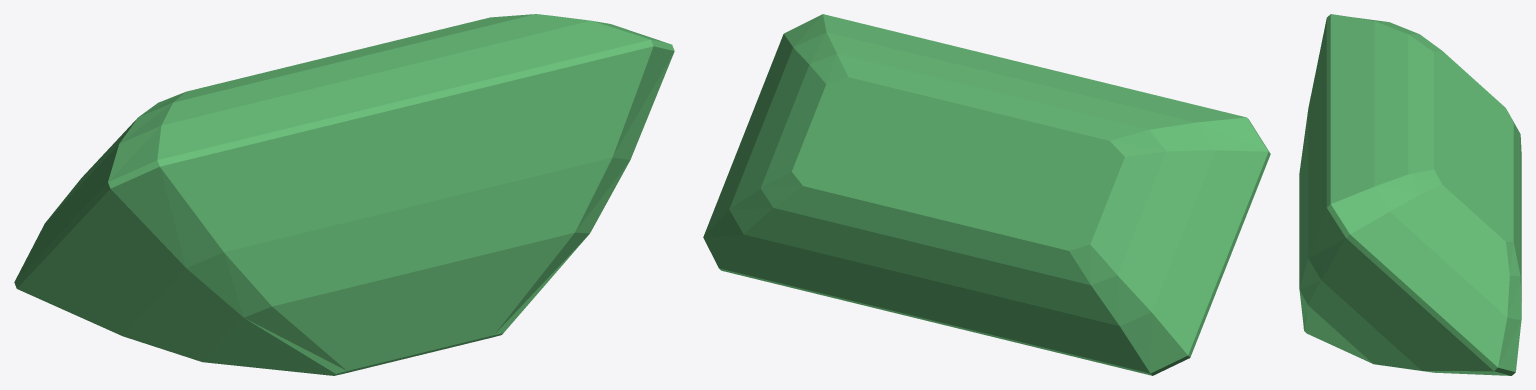
File: may.fbx
The picture shows the model from 3 angles, left to right: view 1: azimuth 30°, elevation 25°; view 2: azimuth 150°, elevation 25°; view 3: azimuth 270°, elevation 25°; orthographic projection. The views are drawn at different scales.
Visible parts, largest first — view 1: emerald; view 2: emerald; view 3: emerald.
Part boxes in pixels (bbox=[...]): emerald: bbox=[14, 14, 674, 375]; emerald: bbox=[703, 14, 1270, 375]; emerald: bbox=[1299, 14, 1521, 375].
Size of the model in its own units: 1275 by 551 by 550.
1 material, 1 textured.
